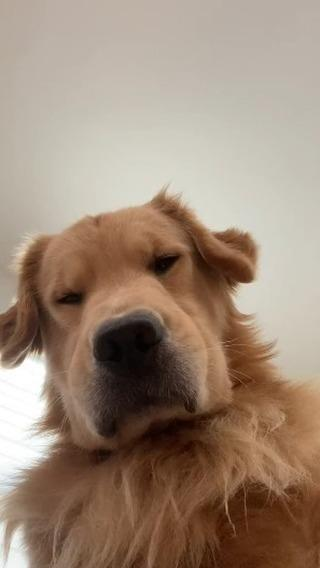adult_dog: (0, 181, 320, 568)
